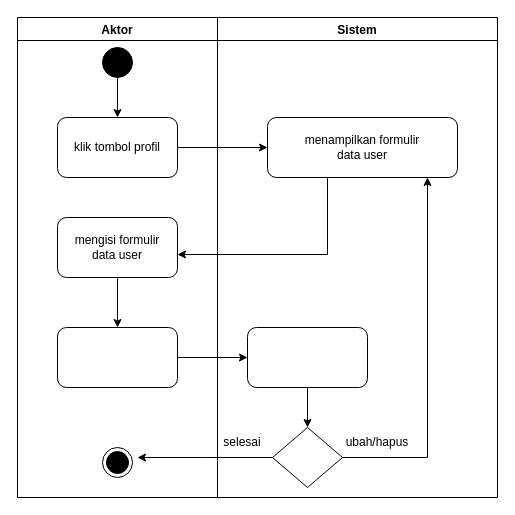
This 515x515 diagram has some shape labels left out. Each missing label, with the box of its shape:
klik tombol simpan: (56, 326, 178, 388)
menyimpan data alumni dan menampilkan pesan berhasil: (246, 326, 368, 388)
